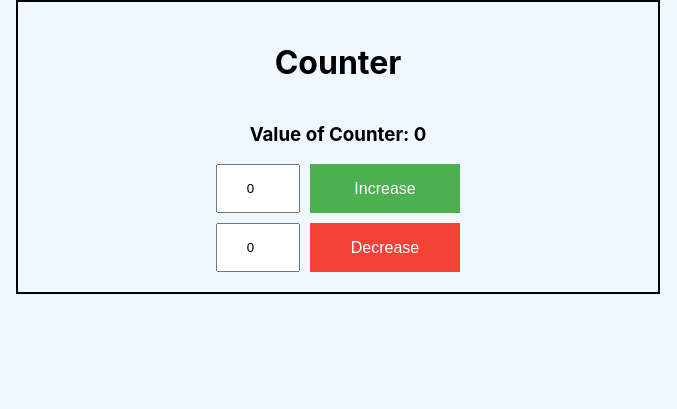
it: Testing My Counter App › Increase Counter › should reset input field after increase
In the number field with test id "value_inc": (258, 189) [216,164,300,213], type "7"
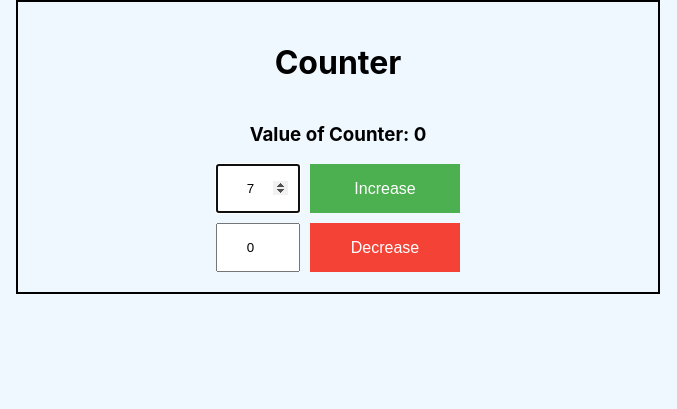
Click the button "Increase": (385, 189) [310,164,460,213]
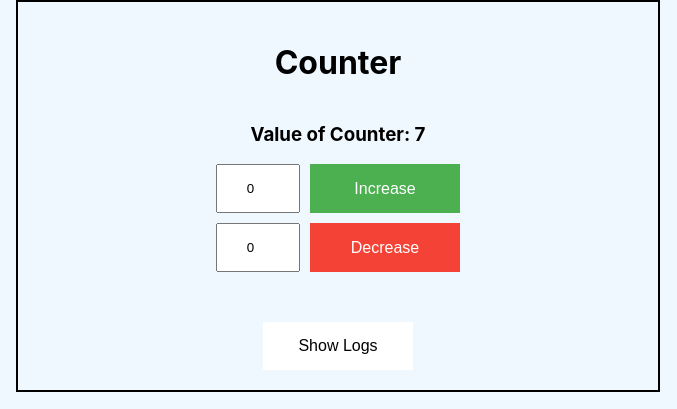
Now the number field with test id "value_inc" holds "0", box [216,164,300,213]
